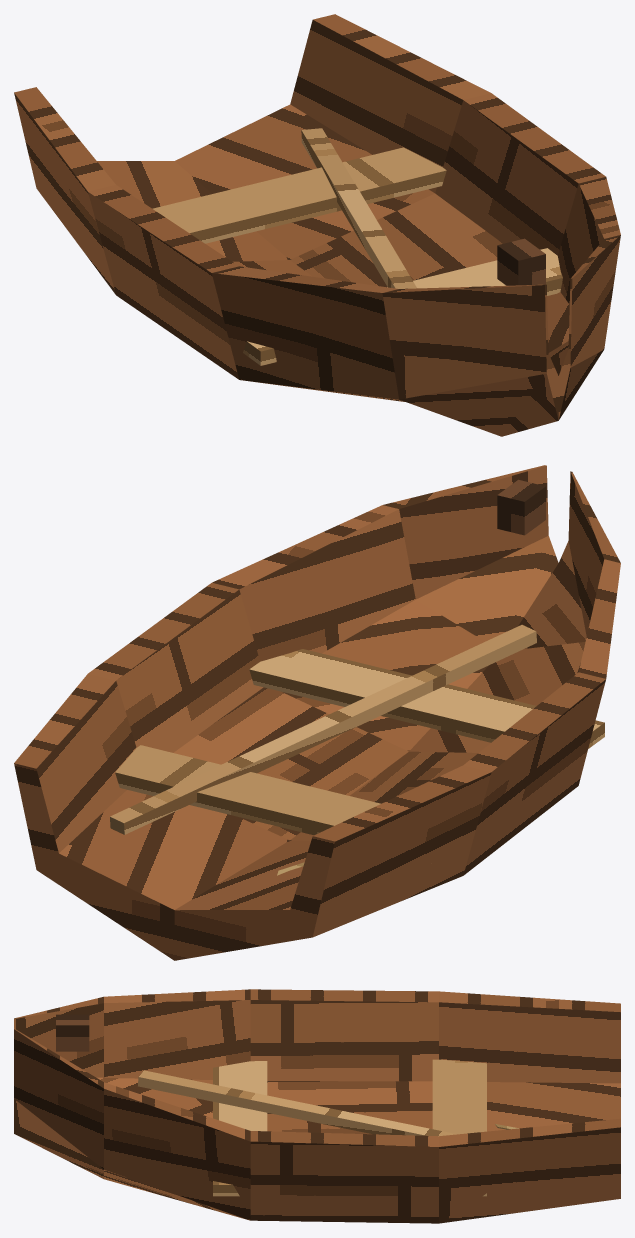
File: boat.glb
The picture shows the model from 3 angles, top to bottom: view 1: azimuth 30°, elevation 25°; view 2: azimuth 150°, elevation 25°; view 3: azimuth 270°, elevation 25°; orthographic projection. The views are drawn at different scales.
Visible parts, largest first — view 1: boat; view 2: boat; view 3: boat.
Part boxes in pixels (<box>): boat: <box>14,14,620,436</box>; boat: <box>14,465,620,960</box>; boat: <box>14,989,620,1223</box>.
Bounding box in the file's own units: 1.76 × 0.98 × 2.9.
Materials: 4 (4 with a texture image).
